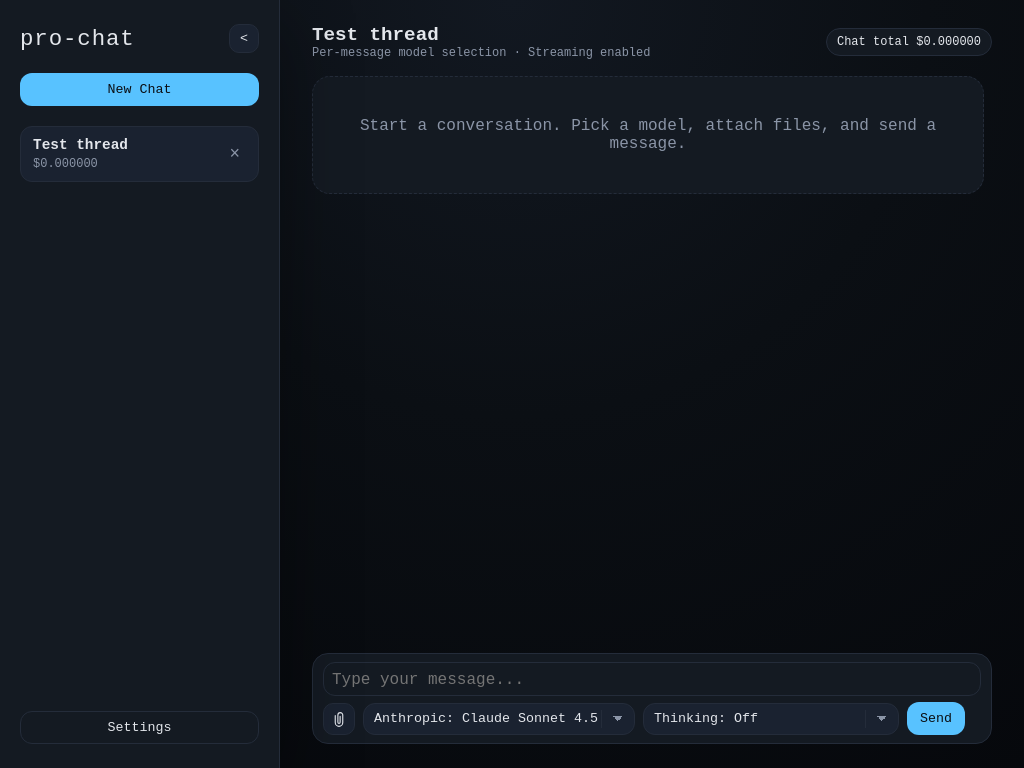
Test: App › supports slash command model switching
Expected: the dropdown named "Model selector" is shown, [363, 702, 635, 734]
Type "/o3" into the text box with placeholder "Type your message...".
click(652, 679); type("/o3")  # box [323, 662, 981, 696]
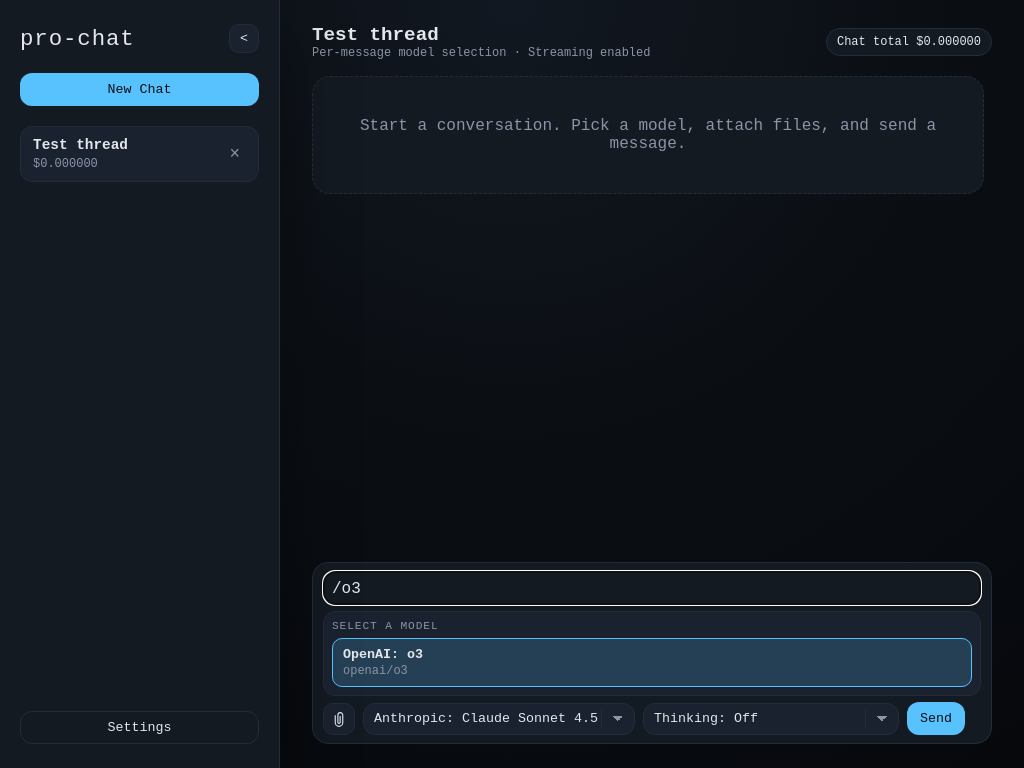
Press Enter
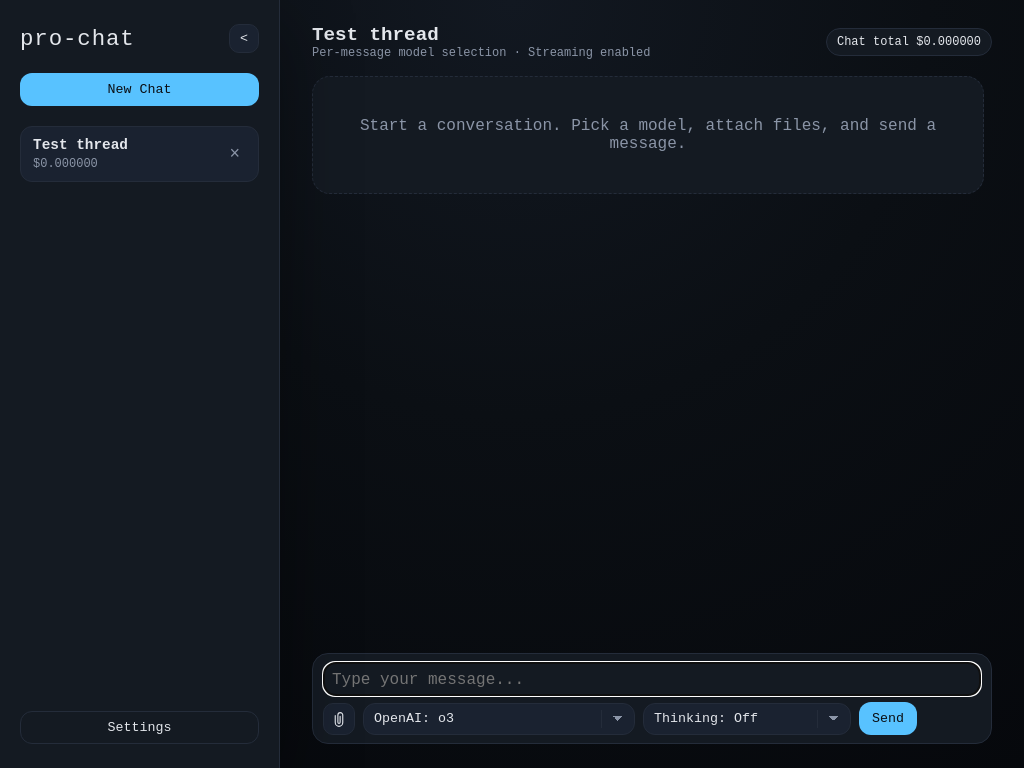
Expected: the dropdown named "Model selector" shows "OpenAI: o3", [363, 702, 635, 734]
Expected: the text box with placeholder "Type your message..." is empty, [323, 662, 981, 696]
